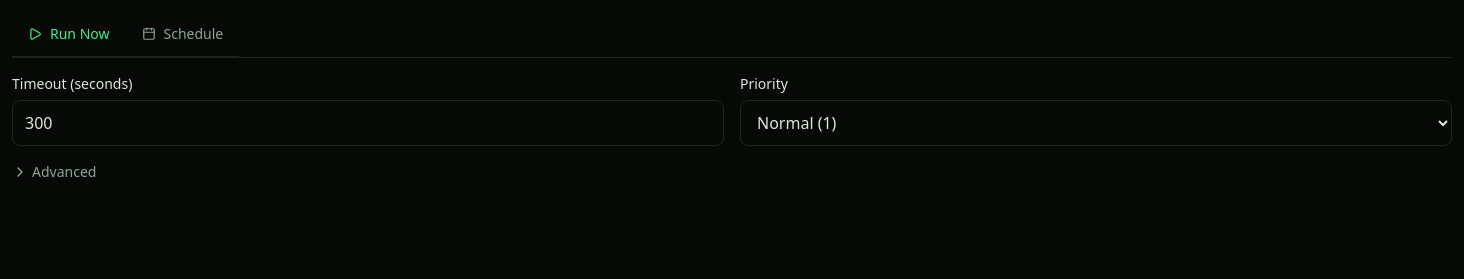
Test case: ExecutionConfig Target Index › hides the Target Index select until Advanced is expanded
Expected: the field labelled "Target Index" is not shown
Click the button "Advanced" at (54, 172), box [12, 162, 96, 182]
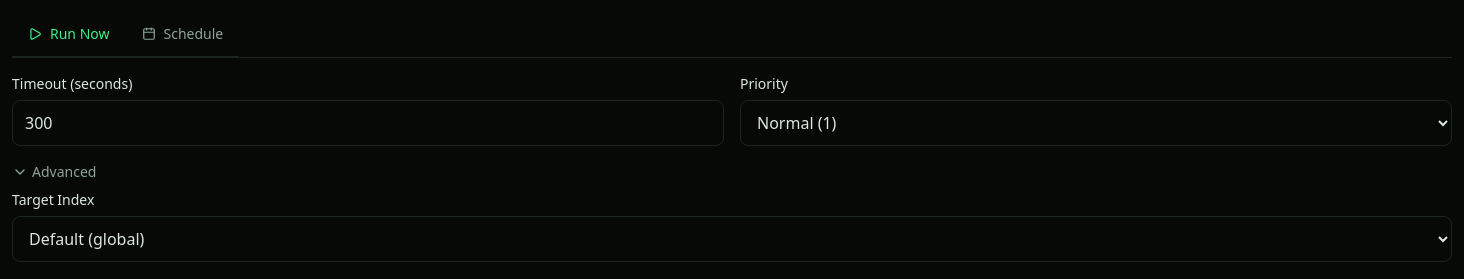
Now the dropdown labelled "Target Index" is shown, box [12, 216, 1452, 262]
